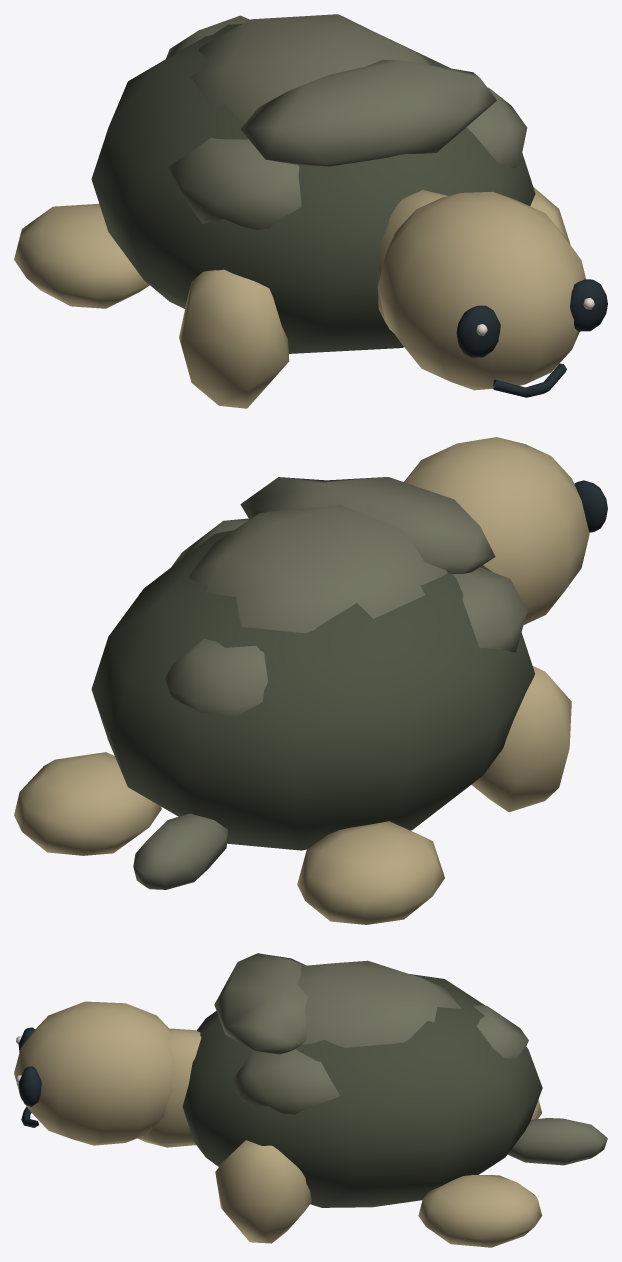
File: org_pintatortoise.glb
3 renders of one model, top to bottom at view 1: azimuth 30°, elevation 25°; view 2: azimuth 150°, elevation 25°; view 3: azimuth 270°, elevation 25°, orthographic. The views are drawn at different scales.
Visible parts, largest first — view 1: Body, Head, Leg_FR, Leg_BR, Eye_R, Eye_L, Leg_FL; view 2: Body, Head, Leg_BR, Leg_BL, Leg_FR, Tail, Eye_R; view 3: Body, Head, Leg_FL, Leg_BL, Tail, Eye_L.
Boxes of the visible parts, <box> form: Body: <box>91,14,535,353</box>; Head: <box>377,190,585,397</box>; Leg_FR: <box>179,269,289,408</box>; Leg_BR: <box>14,203,149,308</box>; Eye_R: <box>456,305,500,357</box>; Eye_L: <box>570,279,607,331</box>; Leg_FL: <box>530,187,570,244</box>; Body: <box>91,477,534,850</box>; Head: <box>404,437,589,624</box>; Leg_BR: <box>297,821,444,924</box>; Leg_BL: <box>14,752,161,855</box>; Leg_FR: <box>471,666,571,812</box>; Tail: <box>133,813,227,889</box>; Eye_R: <box>574,480,607,532</box>; Body: <box>182,953,542,1207</box>; Head: <box>14,1001,201,1147</box>; Leg_FL: <box>215,1140,311,1243</box>; Leg_BL: <box>418,1175,542,1247</box>; Tail: <box>507,1118,607,1165</box>; Eye_L: <box>16,1066,41,1106</box>.
Size of the model in its own units: 0.469 by 0.3188 by 0.7994.
